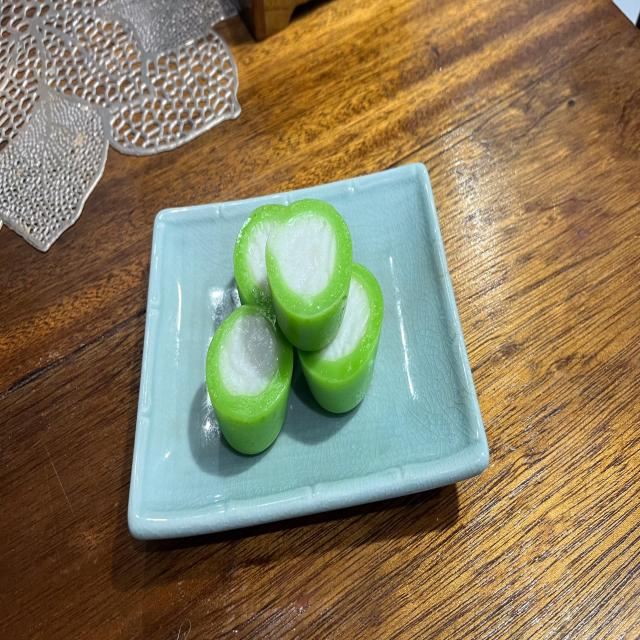nona-manis: (265, 200, 352, 351), (206, 304, 294, 453), (298, 262, 384, 413), (234, 204, 285, 311)
